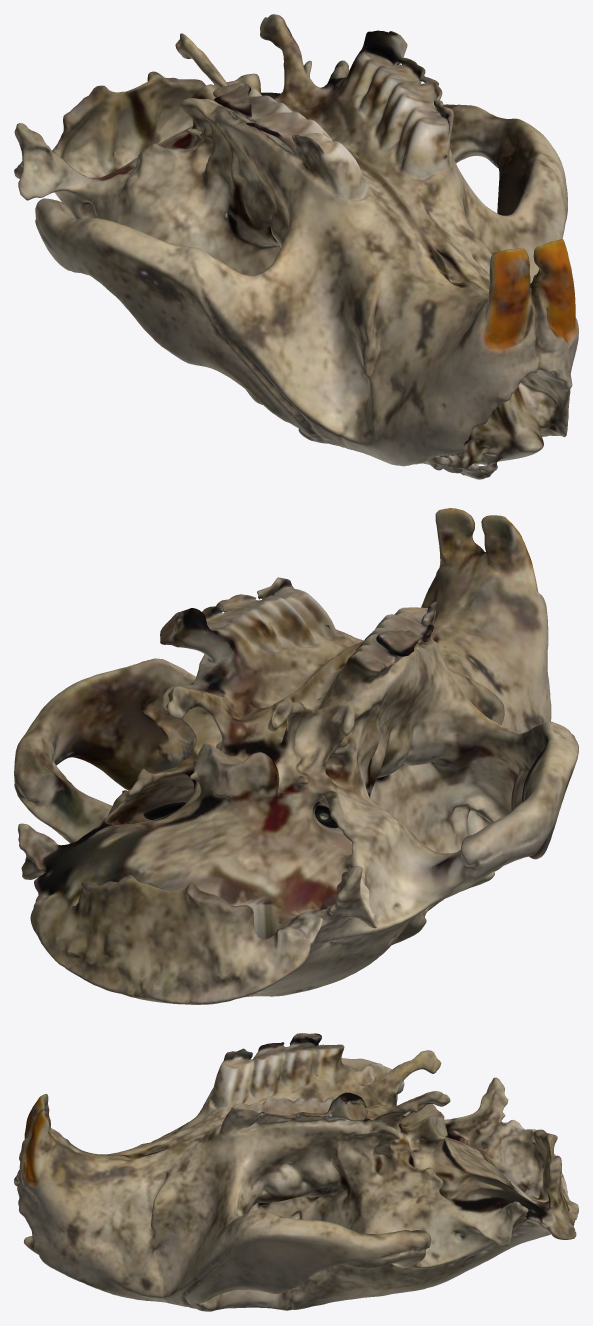
Rendered from FINALSCANCraniumBeaver53-150k-1024-low.glb.
The picture shows the model from 3 angles, top to bottom: view 1: azimuth 30°, elevation 25°; view 2: azimuth 150°, elevation 25°; view 3: azimuth 270°, elevation 25°; orthographic projection. The views are drawn at different scales.
Size of the model in its own units: 77.29 by 49.87 by 109.
Materials: 1 (1 with a texture image).
